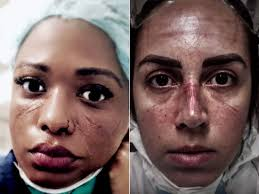mask_weared_incorrect: (139, 49, 250, 193), (14, 62, 115, 192)
